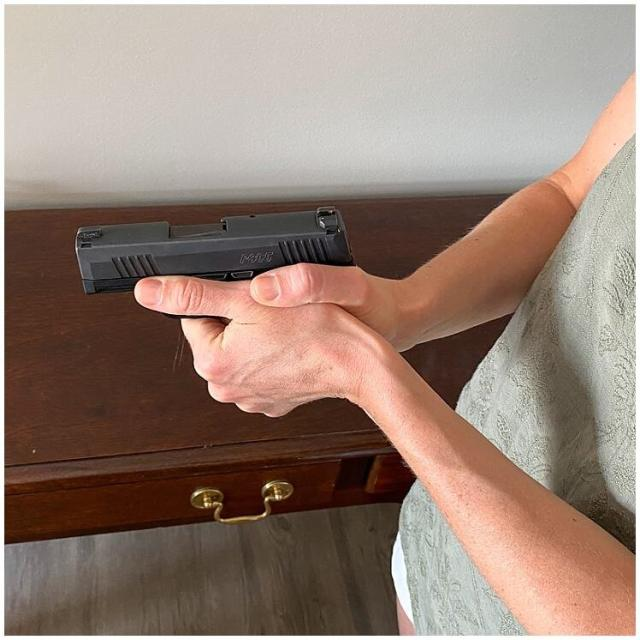HandGun: (75, 206, 355, 295)
